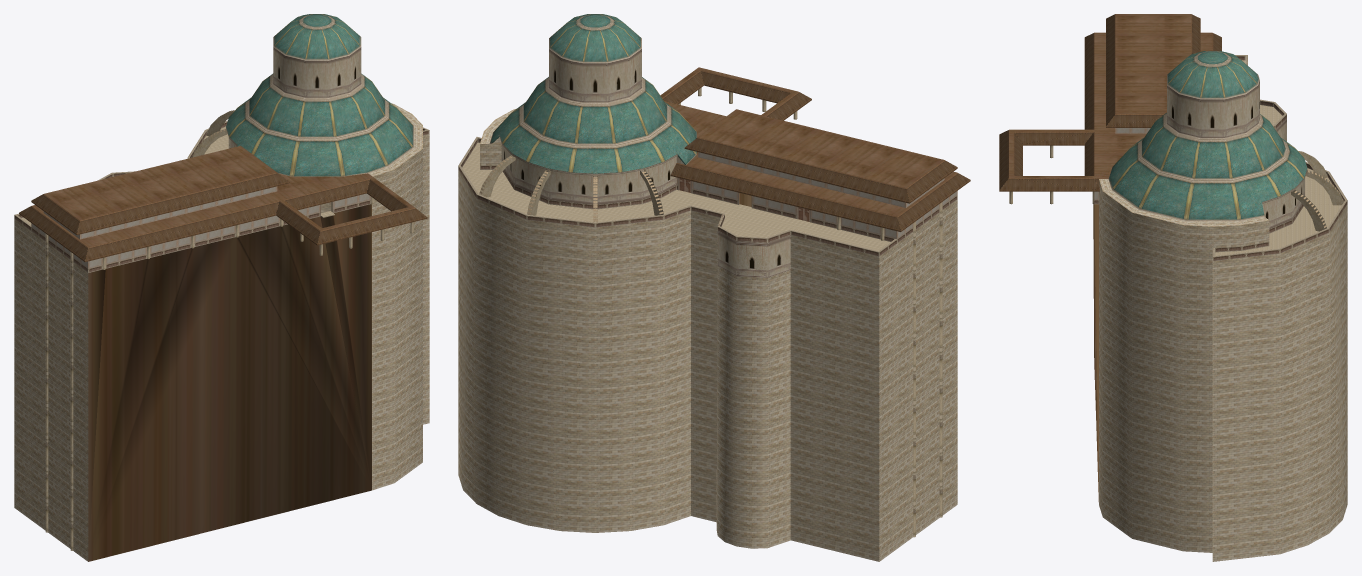
File: thm_nboo_thed_emp_retreat_r0_mesh_l1.fbx
3 views of the same model, side by side, from view 1: azimuth 30°, elevation 25°; view 2: azimuth 150°, elevation 25°; view 3: azimuth 270°, elevation 25° (orthographic). The views are drawn at different scales.
Visible parts, largest first — view 1: mesh_node; view 2: mesh_node; view 3: mesh_node.
Part boxes in pixels (box(x1,y1,x2,y2)): mesh_node: box(14, 14, 429, 561); mesh_node: box(458, 14, 970, 561); mesh_node: box(999, 14, 1347, 561).
Size of the model in its own units: 103 by 105 by 73.5.
